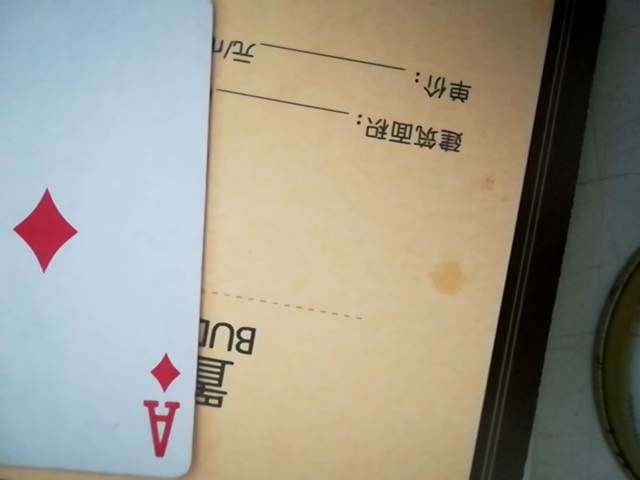fk a: (1, 0, 206, 479)
